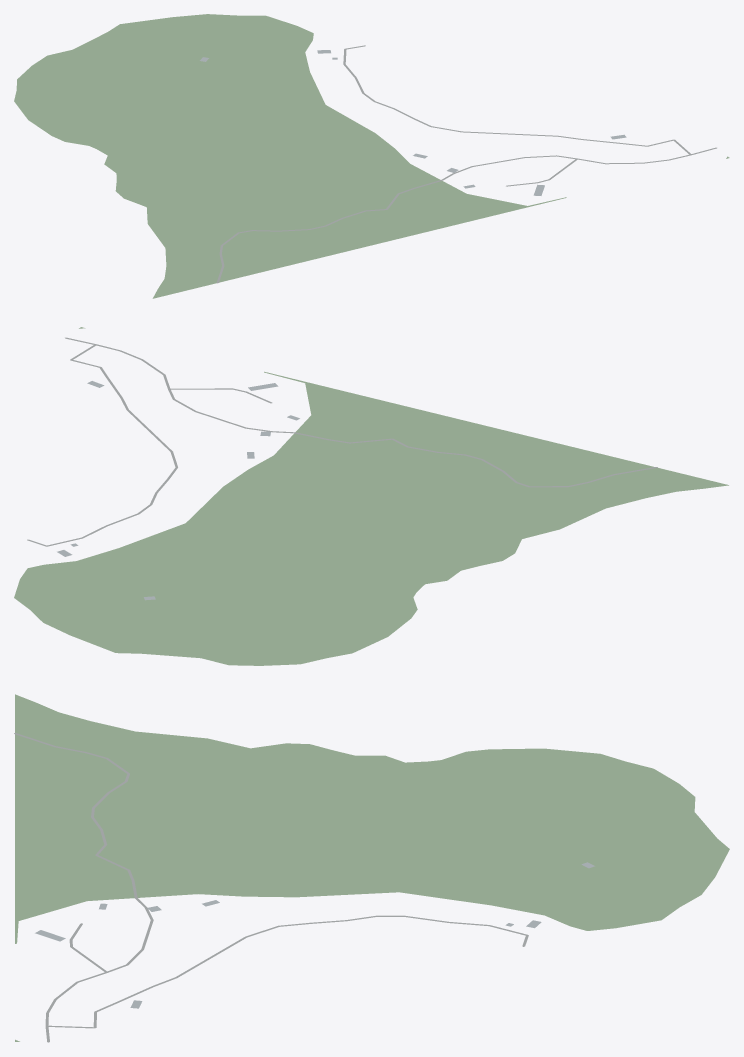
Rendered from -24_-13-known-fine.glb.
3 views of the same model, one above another, from view 1: azimuth 30°, elevation 25°; view 2: azimuth 150°, elevation 25°; view 3: azimuth 270°, elevation 25° (orthographic). The views are drawn at different scales.
Bounding box in the file's own units: 847 × 0.15 × 736.
